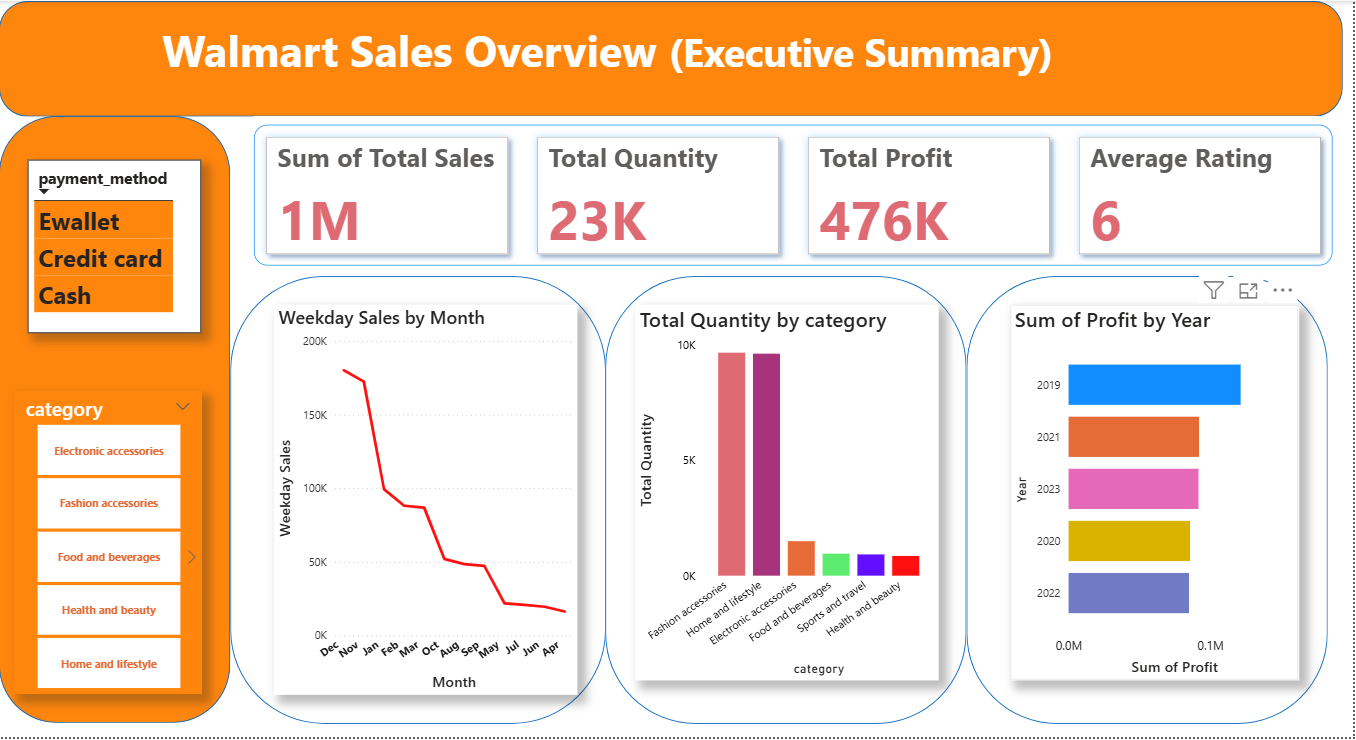

What the dashboard file says about the page in this screenshot:
{"tool":"powerbi","page":{"name":"Page 1","canvas":[1500,815],"ordinal":0},"visuals":[{"type":"shape","box":[0,0,1488,128],"z":0},{"type":"textbox","box":[176,16,1152,112],"z":1000},{"type":"shape","box":[0,128,256,672],"z":2000},{"type":"cardVisual","fields":{"Data":["Sum(walmart_clean_data.Total Sales)","walmart_clean_data.Total Quantity","walmart_clean_data.Total Profit","walmart_clean_data.Average Rating"]},"box":[272,128,1216,176],"z":3000},{"type":"shape","box":[256,304,416,496],"z":4000},{"type":"shape","box":[672,304,400,496],"z":5000},{"type":"lineChart","fields":{"Category":["walmart_clean_data.Month"],"Y":["walmart_clean_data.Weekday Sales"]},"box":[304,336,336,432],"z":6000},{"type":"columnChart","fields":{"Category":["walmart_clean_data.category"],"Y":["walmart_clean_data.Total Quantity"]},"box":[704,336,336,416],"z":7000},{"type":"tableEx","fields":{"Values":["walmart_clean_data.payment_method"]},"box":[32,176,192,192],"z":8000},{"type":"slicer","fields":{"Values":["walmart_clean_data.category"]},"box":[16,432,208,336],"z":9000},{"type":"shape","box":[1072,304,400,496],"z":10000},{"type":"barChart","fields":{"Category":["walmart_clean_data.Year"],"Y":["Sum(walmart_clean_data.Profit)"]},"box":[1120,336,320,416],"z":11000}]}

Visuals, with their boxes in screenshot pixels (x1, y1, x2, y2), scaled from the page's 1500x815 canvas onto the 1356x740 screenshot:
shape: left=0, top=0, right=1345, bottom=116
textbox: left=159, top=15, right=1201, bottom=116
shape: left=0, top=116, right=231, bottom=726
cardVisual - Sum(walmart_clean_data.Total Sales) x walmart_clean_data.Total Quantity: left=246, top=116, right=1345, bottom=276
shape: left=231, top=276, right=607, bottom=726
shape: left=607, top=276, right=969, bottom=726
lineChart - walmart_clean_data.Month x walmart_clean_data.Weekday Sales: left=275, top=305, right=579, bottom=697
columnChart - walmart_clean_data.category x walmart_clean_data.Total Quantity: left=636, top=305, right=940, bottom=683
tableEx - walmart_clean_data.payment_method: left=29, top=160, right=202, bottom=334
slicer - walmart_clean_data.category: left=14, top=392, right=202, bottom=697
shape: left=969, top=276, right=1331, bottom=726
barChart - walmart_clean_data.Year x Sum(walmart_clean_data.Profit): left=1012, top=305, right=1302, bottom=683
